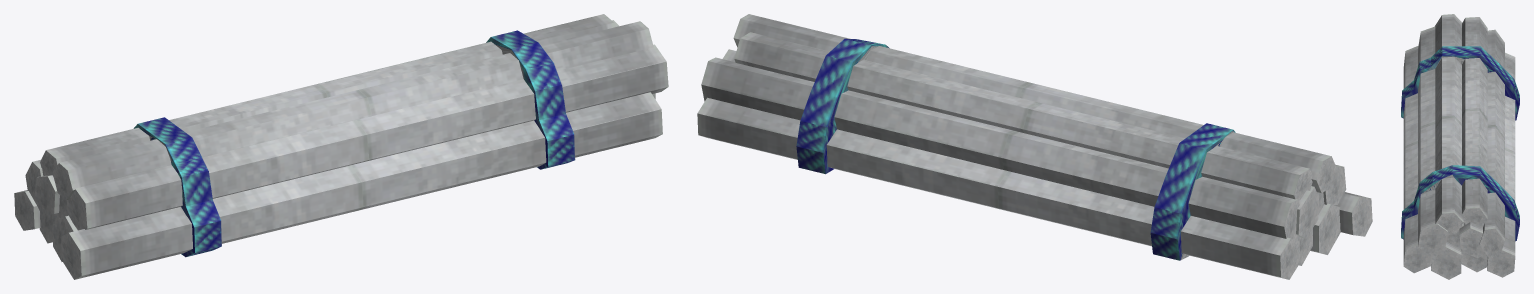
The model's file is CSR_BoundMetalBars10.fbx.
3 views of the same model, side by side, from view 1: azimuth 30°, elevation 25°; view 2: azimuth 150°, elevation 25°; view 3: azimuth 270°, elevation 25° (orthographic). The views are drawn at different scales.
Parts seen in each view (by area): view 1: Bound Metal Bars x10; view 2: Bound Metal Bars x10; view 3: Bound Metal Bars x10.
Part boxes in pixels (x1,y1,x2,y2): Bound Metal Bars x10: (14,14,668,279); Bound Metal Bars x10: (697,14,1372,279); Bound Metal Bars x10: (1401,14,1519,279).
Bounding box in the file's own units: 0.4316 × 0.0697 × 0.106.
1 material, 1 textured.
